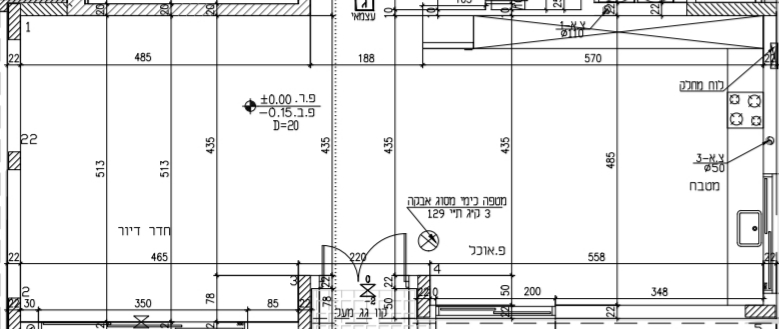door: (313, 226, 414, 288)
wall: (68, 1, 315, 17), (685, 1, 779, 18), (9, 1, 66, 17)
window: (437, 291, 558, 323)
